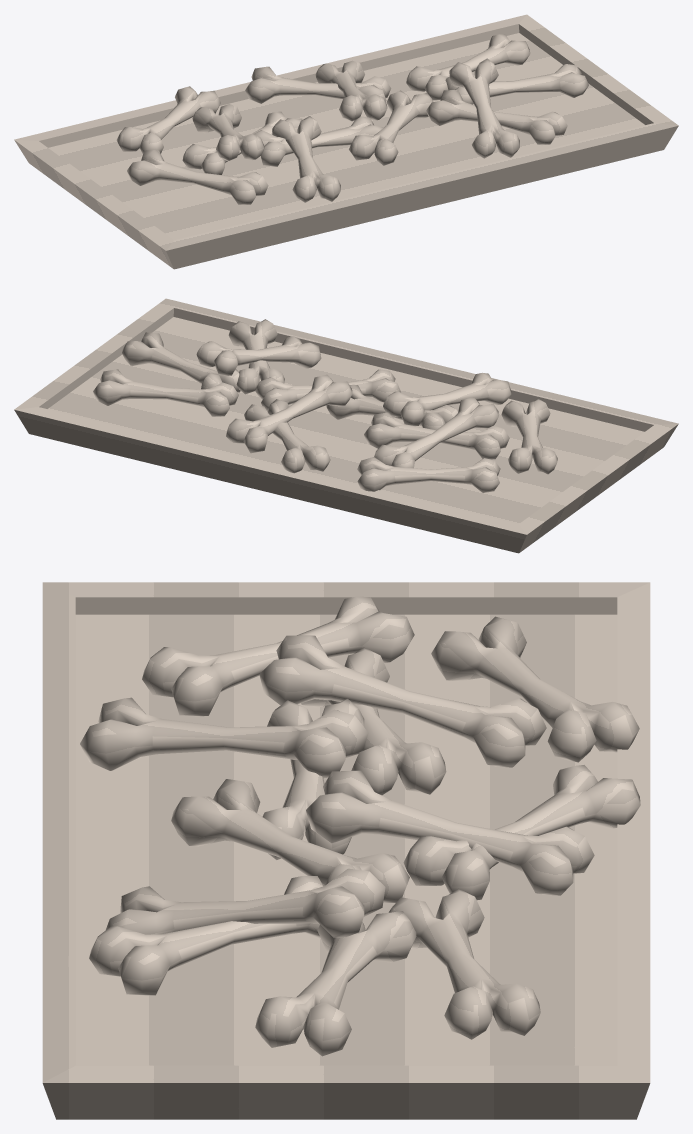
The model's file is Int_BoneDish.fbx.
3 renders of one model, top to bottom at view 1: azimuth 30°, elevation 25°; view 2: azimuth 150°, elevation 25°; view 3: azimuth 270°, elevation 25°, orthographic. The views are drawn at different scales.
Visible parts, largest first — view 1: BoneDish; view 2: BoneDish; view 3: BoneDish.
Part boxes in pixels (x1,y1,x2,y2): BoneDish: [14, 14, 678, 269]; BoneDish: [14, 298, 678, 553]; BoneDish: [42, 582, 650, 1119].
Bounding box in the file's own units: 2.61 × 0.3069 × 1.34.
